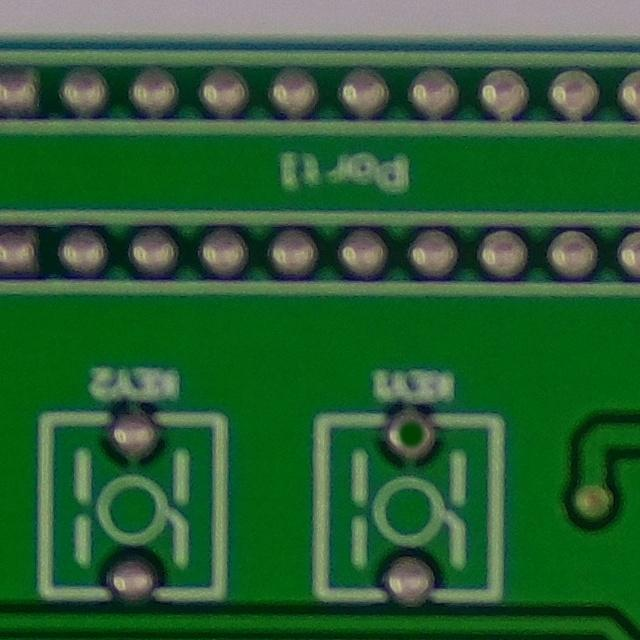missing_hole: (382, 405, 444, 462)
